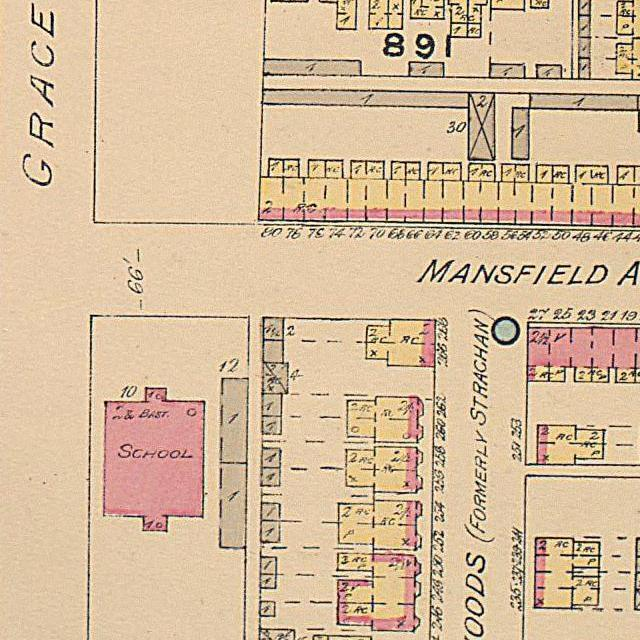building-footprints: (259, 159, 640, 226), (104, 389, 204, 531), (338, 553, 420, 631), (527, 328, 640, 383), (535, 537, 599, 608), (338, 501, 421, 550), (263, 90, 469, 108), (347, 397, 423, 443), (346, 447, 423, 492), (367, 319, 435, 367), (537, 425, 603, 465), (220, 463, 247, 548), (221, 378, 248, 463), (530, 93, 638, 110), (468, 93, 495, 160), (264, 60, 361, 76), (369, 0, 402, 29), (448, 0, 487, 23), (512, 108, 529, 159), (411, 0, 444, 19), (337, 0, 356, 29), (409, 63, 444, 77), (263, 340, 283, 363), (263, 318, 283, 341), (490, 65, 525, 78), (262, 393, 281, 416), (261, 521, 280, 543), (259, 629, 294, 640), (261, 448, 280, 468), (261, 467, 280, 486), (537, 65, 562, 79), (261, 503, 280, 521), (262, 416, 281, 434), (491, 0, 525, 10), (314, 635, 372, 640), (261, 557, 277, 575), (451, 23, 468, 38), (579, 15, 590, 38), (260, 574, 276, 589), (579, 58, 590, 79), (579, 37, 590, 58), (260, 602, 274, 616), (468, 23, 481, 38), (579, 0, 590, 16), (635, 590, 640, 610), (635, 573, 640, 590), (636, 556, 640, 573), (637, 539, 640, 557)
